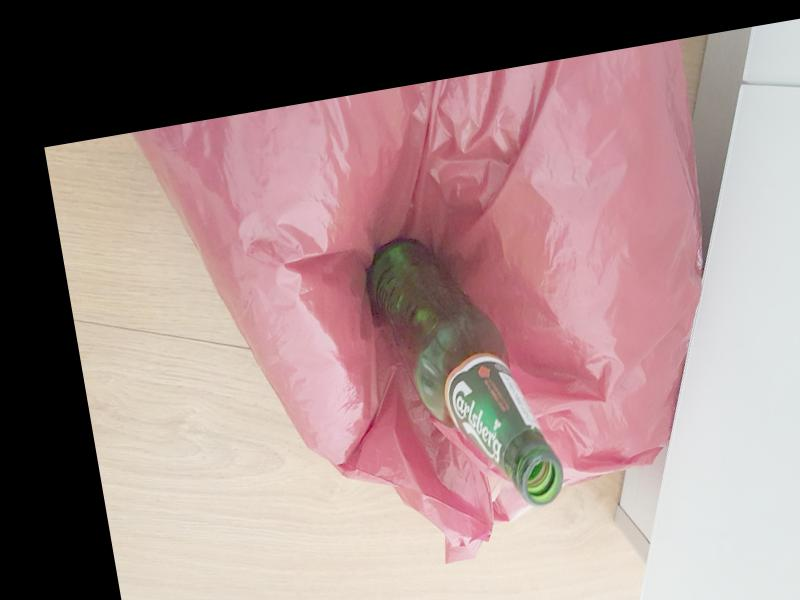Beer: (357, 223, 566, 530)
